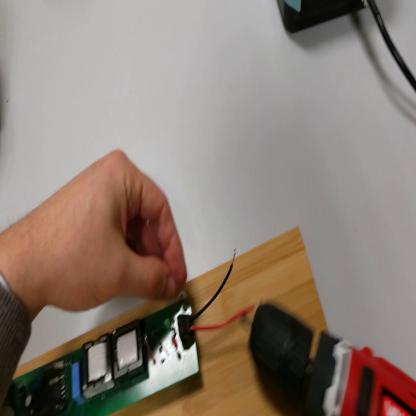electric screwdriver: (239, 298, 416, 416)
hand: (38, 152, 187, 308)
high voltage board: (4, 236, 269, 416)
welder station: (277, 4, 368, 40)
working area: (11, 228, 347, 415)
